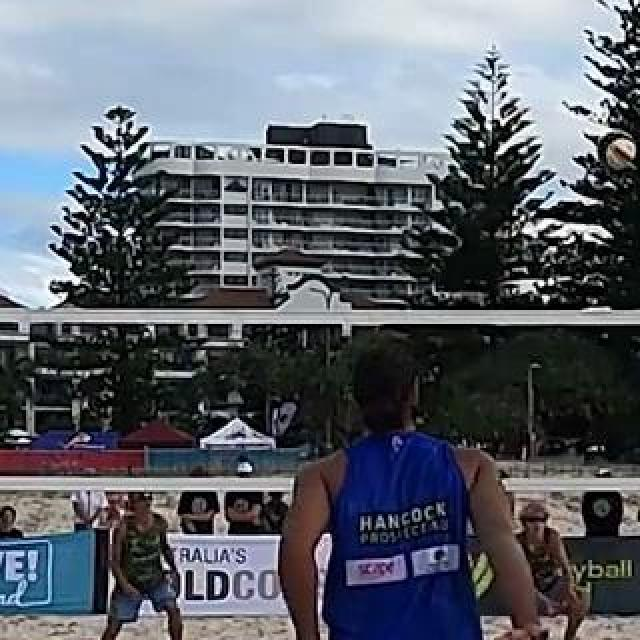volleyball: (606, 140, 634, 168)
